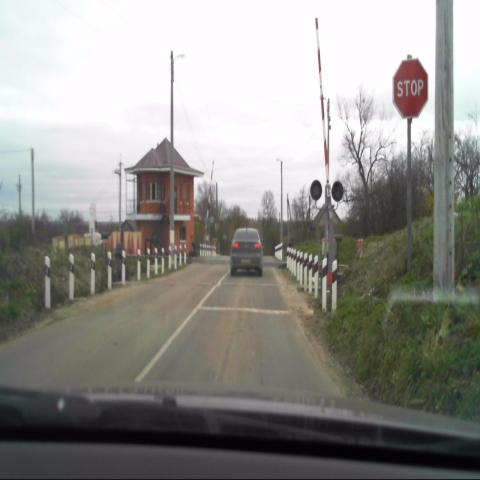2_5: (393, 58, 429, 120)
